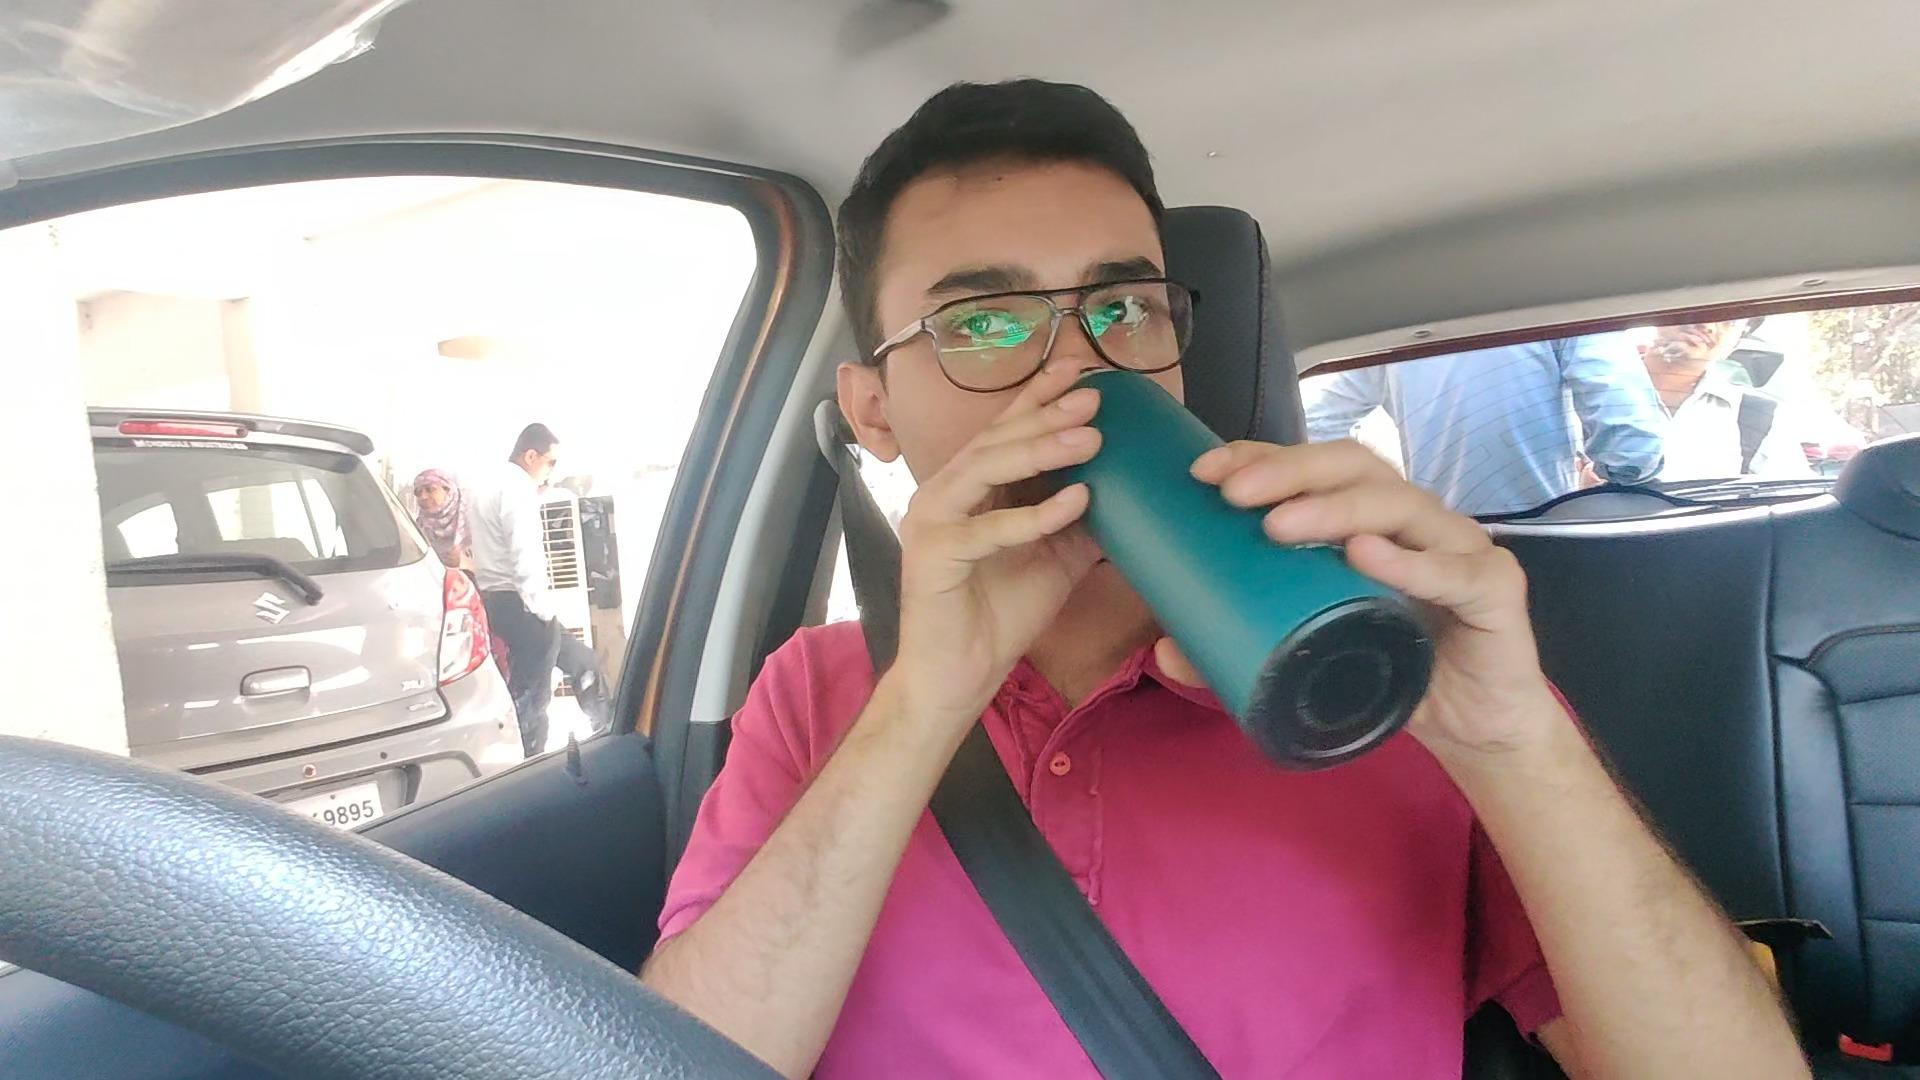Drinking: (837, 94, 1472, 769)
